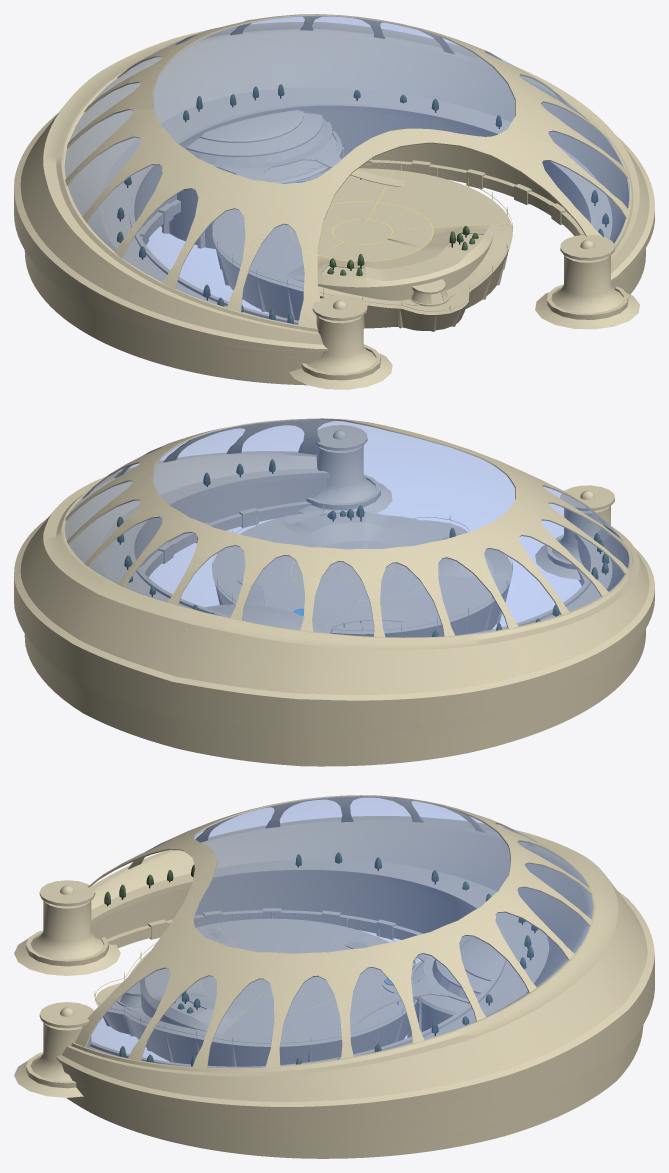
The model's file is digital-palace-loklok.glb.
The picture shows the model from 3 angles, top to bottom: view 1: azimuth 30°, elevation 25°; view 2: azimuth 150°, elevation 25°; view 3: azimuth 270°, elevation 25°; orthographic projection.
Parts seen in each view (by area): view 1: wall, glass, inner, trees, inner.001, metal; view 2: wall, glass, inner, trees, metal; view 3: wall, glass, inner, trees, metal.
Boxes of the visible parts, <box> form: wall: <box>14,14,654,389</box>; glass: <box>65,16,629,324</box>; inner: <box>161,110,512,331</box>; trees: <box>117,84,609,323</box>; inner.001: <box>186,117,327,165</box>; metal: <box>212,148,512,312</box>; wall: <box>14,418,654,766</box>; glass: <box>65,419,629,637</box>; inner: <box>205,509,512,637</box>; trees: <box>117,459,609,636</box>; metal: <box>212,504,512,633</box>; wall: <box>14,795,654,1158</box>; glass: <box>86,796,592,1067</box>; inner: <box>94,915,501,1066</box>; trees: <box>104,852,537,1066</box>; metal: <box>94,912,448,1043</box>.
Size of the model in its own units: 170 by 60.54 by 169.
7 materials, 4 textured.
